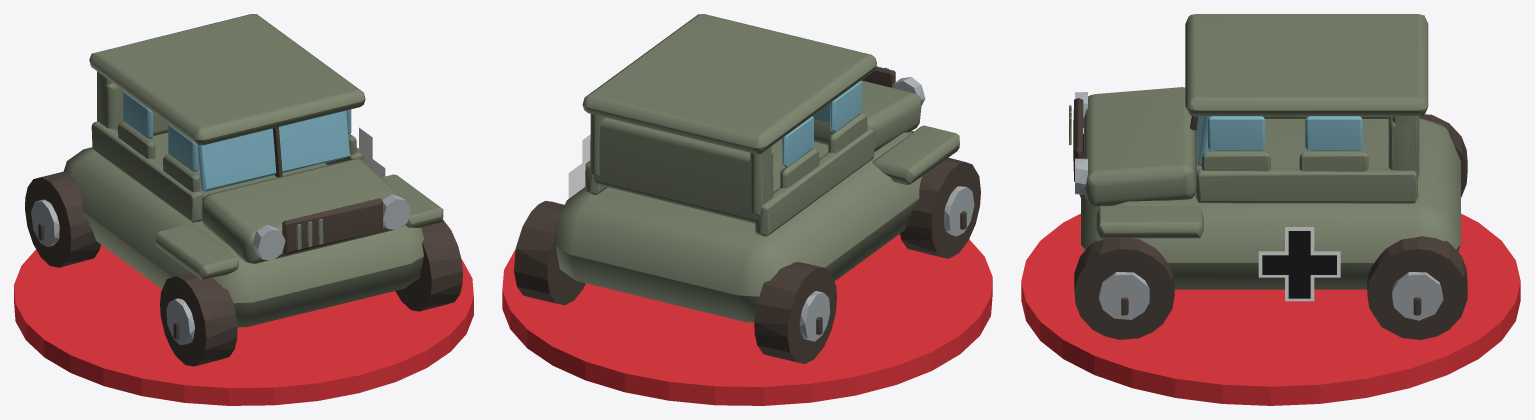
The model's file is germany_militia_lod0.glb.
3 views of the same model, side by side, from view 1: azimuth 30°, elevation 25°; view 2: azimuth 150°, elevation 25°; view 3: azimuth 270°, elevation 25° (orthographic). The views are drawn at different scales.
Parts seen in each view (by area): view 1: body_hull, base_pedestal; view 2: body_hull, base_pedestal; view 3: body_hull, base_pedestal.
Part boxes in pixels (x1,y1,x2,y2): body_hull: [25, 14, 462, 366]; base_pedestal: [14, 244, 473, 405]; body_hull: [514, 14, 980, 363]; base_pedestal: [502, 234, 992, 405]; body_hull: [1069, 14, 1467, 339]; base_pedestal: [1021, 213, 1520, 405].
Bounding box in the file's own units: 0.78 × 0.4221 × 0.78.
